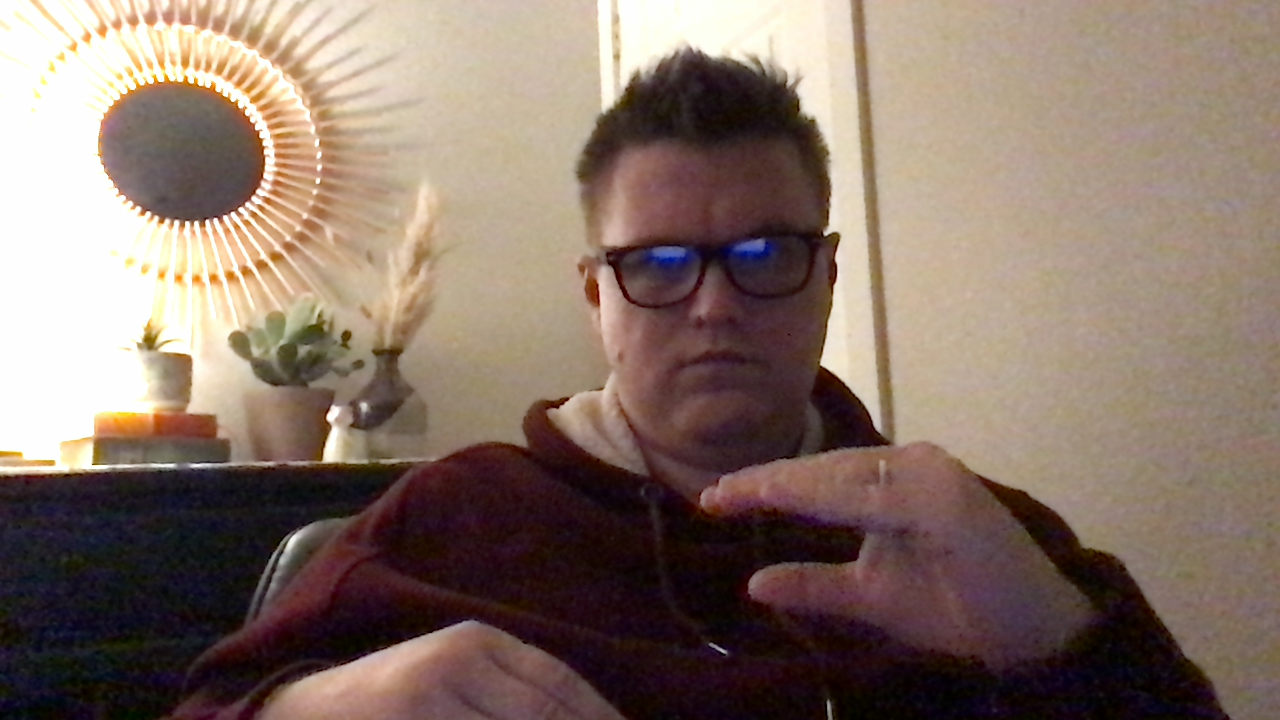no: (692, 439, 1092, 671)
